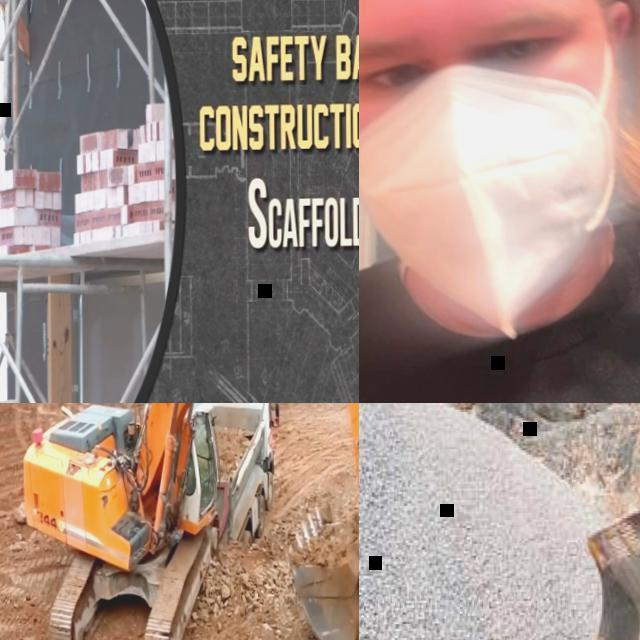machinery: (18, 403, 359, 640), (570, 403, 640, 640), (207, 403, 283, 545)
mask: (359, 62, 625, 344)
no_vest: (359, 214, 640, 403)
person: (359, 0, 640, 403), (188, 466, 195, 492)
